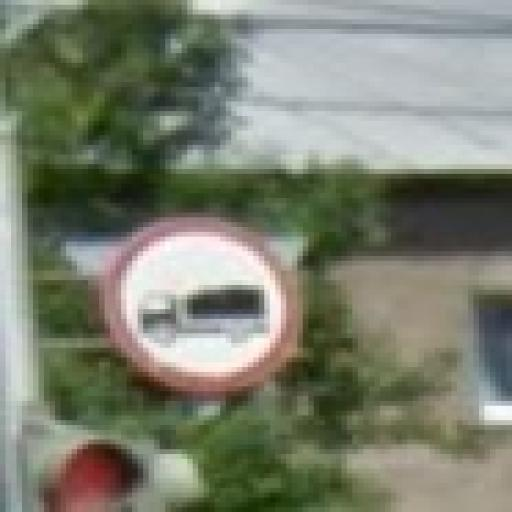traffic_sign: (106, 218, 304, 397)
